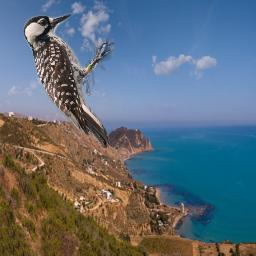Woodpecker: (23, 13, 114, 148)
